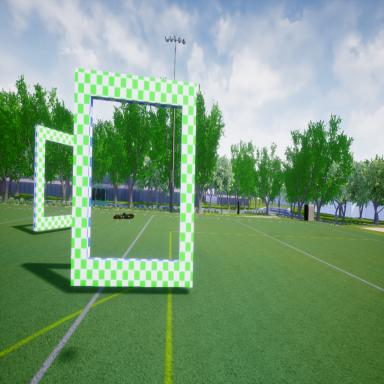gate: (71, 57, 196, 302), (33, 120, 72, 233)
